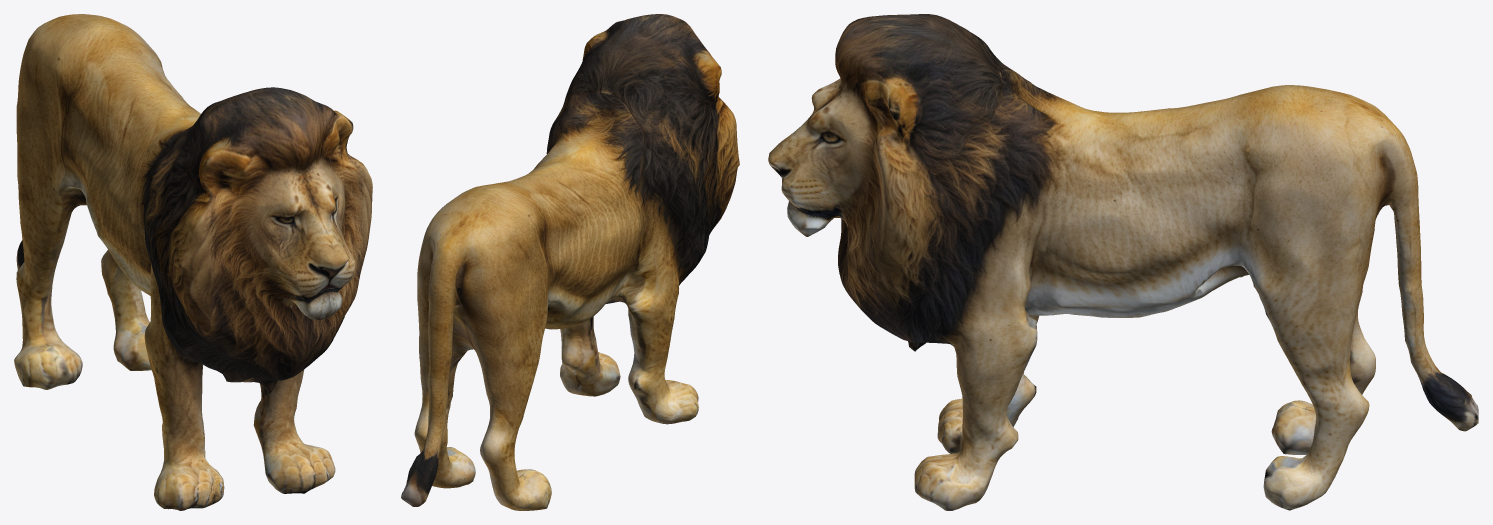
File: lion.fbx
3 renders of one model, left to right at view 1: azimuth 30°, elevation 25°; view 2: azimuth 150°, elevation 25°; view 3: azimuth 270°, elevation 25°, orthographic. The views are drawn at different scales.
Visible parts, largest first — view 1: Mesh_0; view 2: Mesh_0; view 3: Mesh_0.
Boxes of the visible parts, bbox=[...] form: Mesh_0: bbox=[14, 14, 372, 510]; Mesh_0: bbox=[401, 14, 739, 510]; Mesh_0: bbox=[768, 14, 1478, 510].
Size of the model in its own units: 41.9 by 84.99 by 120.
1 material, 1 textured.
